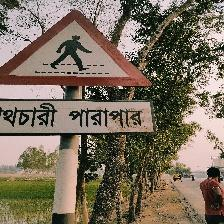Pedestrian-crossing: (0, 8, 155, 133)
